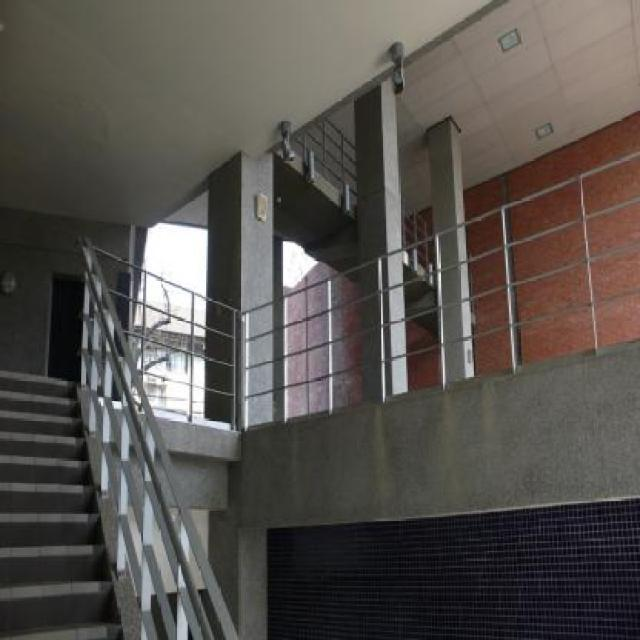stair: (0, 366, 125, 639)
